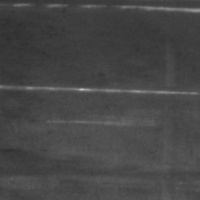scratches: (0, 80, 199, 100)
